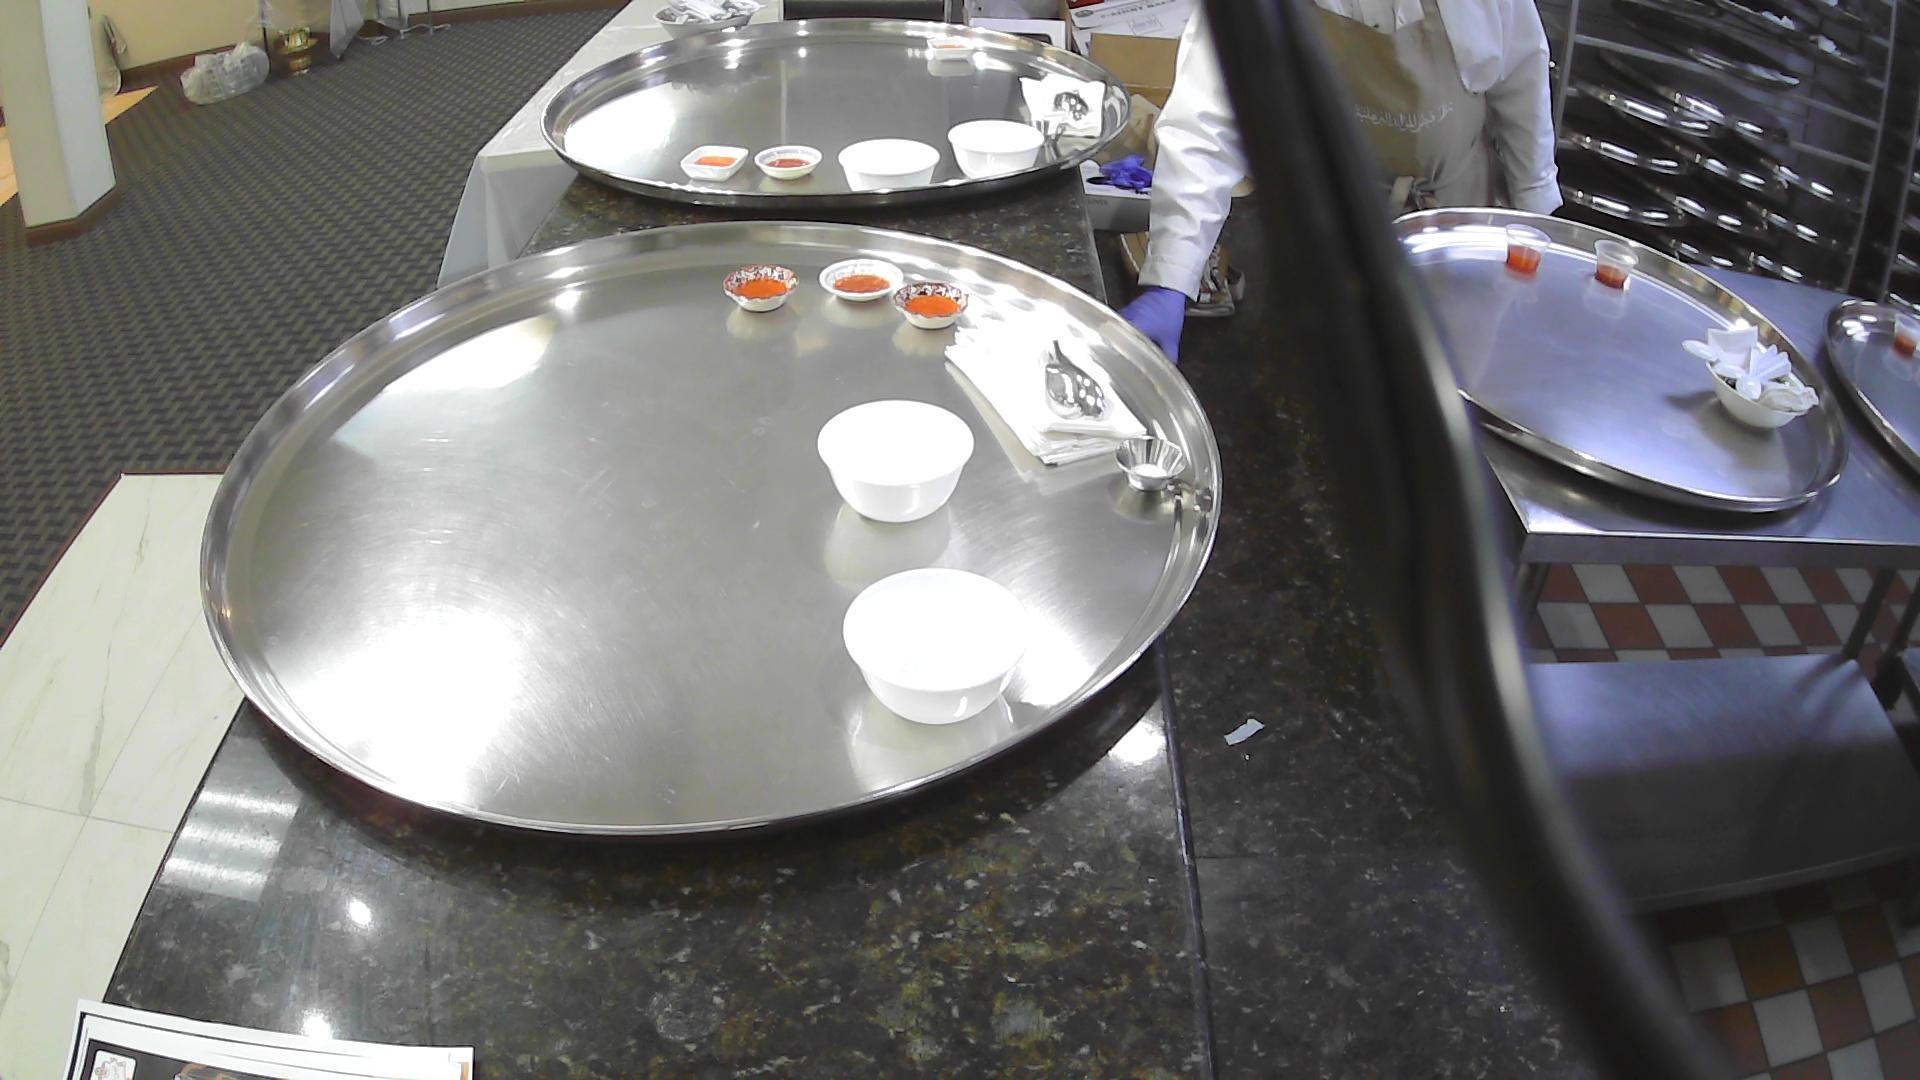thaal: (196, 215, 1230, 868), (1377, 204, 1854, 539), (537, 15, 1137, 219), (1818, 286, 1920, 501)
